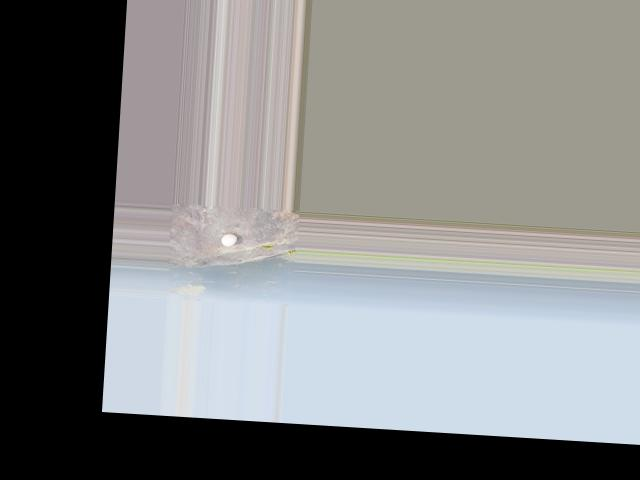egg: (220, 233, 236, 246)
